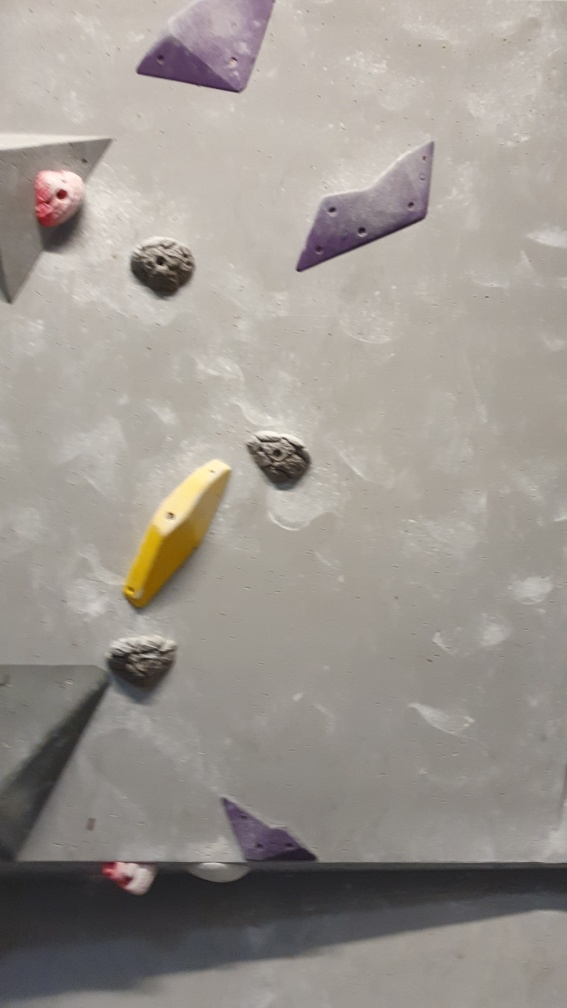Jug: (106, 632, 180, 692), (245, 427, 316, 489), (131, 234, 197, 298), (32, 162, 86, 231), (99, 858, 161, 898)
Pinch: (119, 457, 234, 615)
